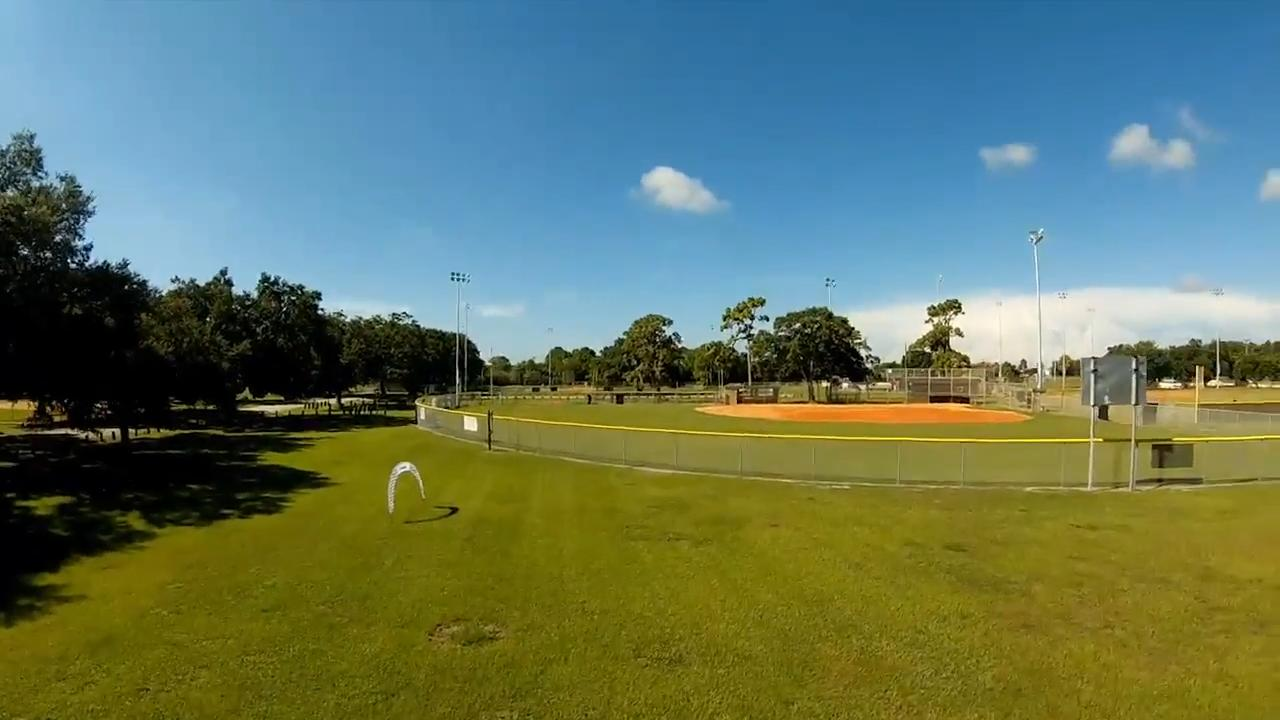gate: (383, 458, 429, 513)
